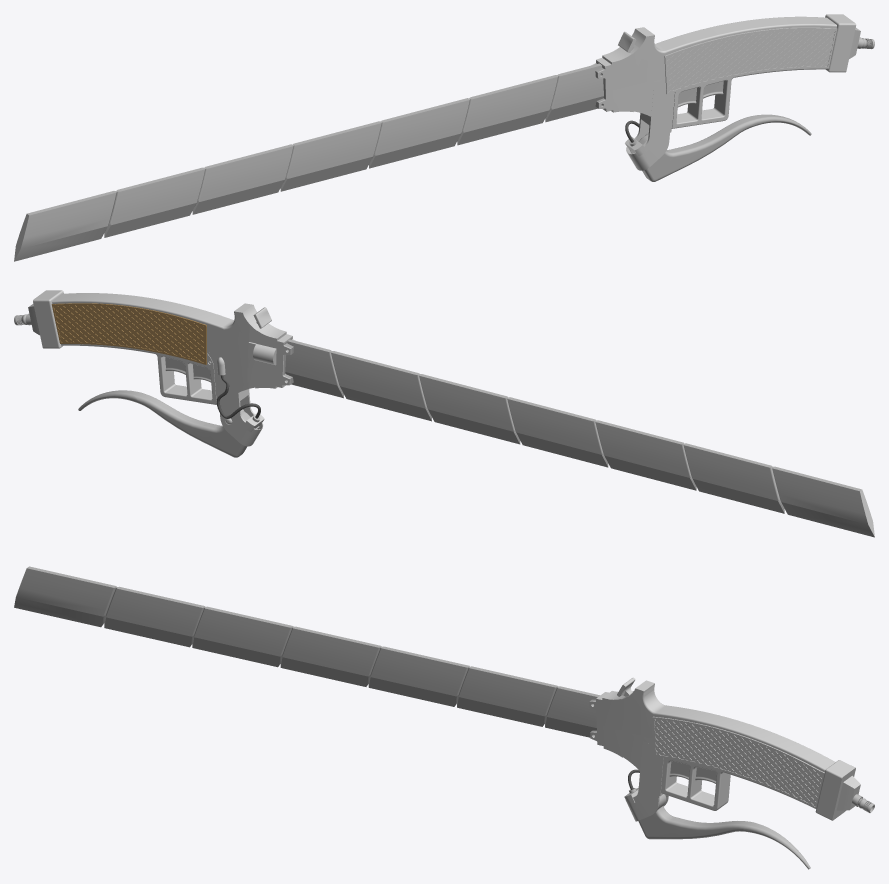
File: espada.fbx
3 renders of one model, top to bottom at view 1: azimuth 30°, elevation 25°; view 2: azimuth 150°, elevation 25°; view 3: azimuth 330°, elevation 25°, orthographic.
Parts seen in each view (by area): view 1: Object_2; view 2: Object_2; view 3: Object_2.
Part boxes in pixels (x1=…): Object_2: x1=14, y1=14, x2=874, y2=261; Object_2: x1=14, y1=290, x2=874, y2=537; Object_2: x1=14, y1=566, x2=874, y2=869.
Size of the model in its own units: 29235 by 4902 by 945.
